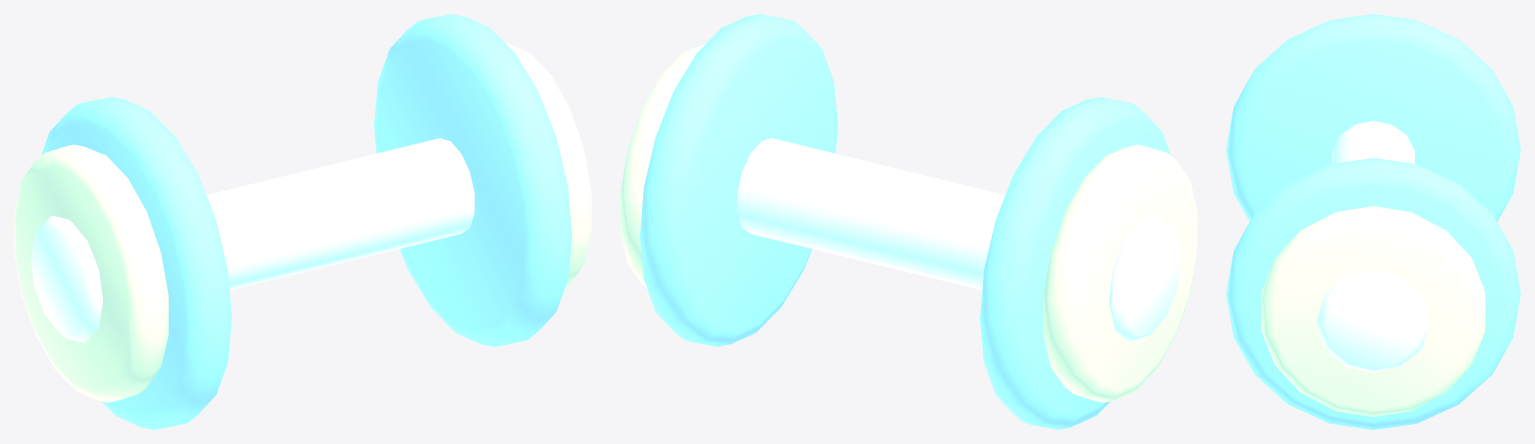
File: props__Barbell.glb
3 renders of one model, left to right at view 1: azimuth 30°, elevation 25°; view 2: azimuth 150°, elevation 25°; view 3: azimuth 270°, elevation 25°, orthographic. The views are drawn at different scales.
Visible parts, largest first — view 1: Barbell; view 2: Barbell; view 3: Barbell.
Part boxes in pixels (x1,y1,x2,y2): Barbell: [14, 14, 591, 429]; Barbell: [620, 14, 1197, 429]; Barbell: [1226, 14, 1520, 429].
Size of the model in its own units: 4.82 by 2.9 by 2.9.
